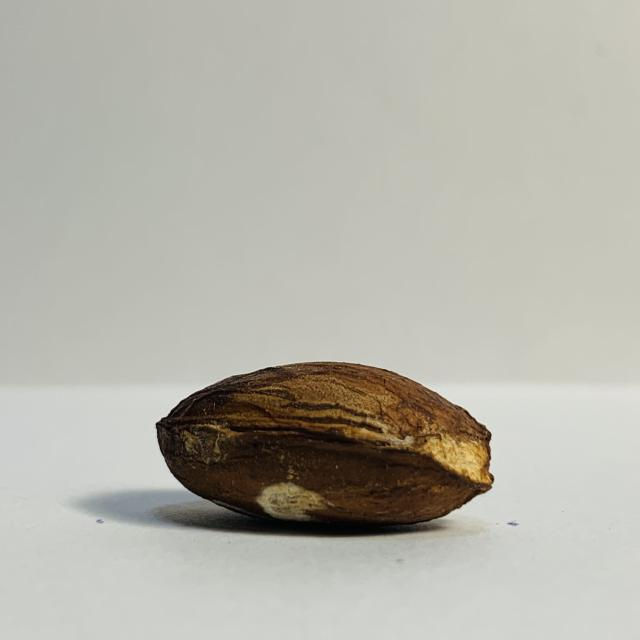Fine_cocoabeans: (67, 299, 575, 598)
